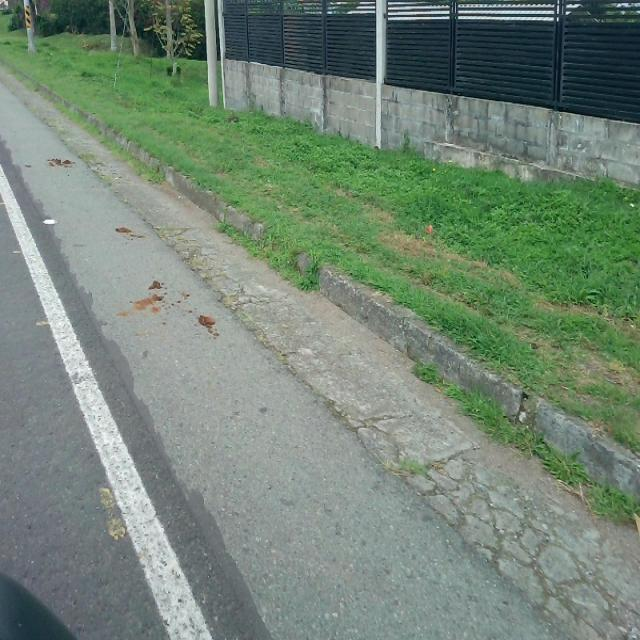DITCH: (1, 32, 638, 638), (1, 61, 638, 638)
